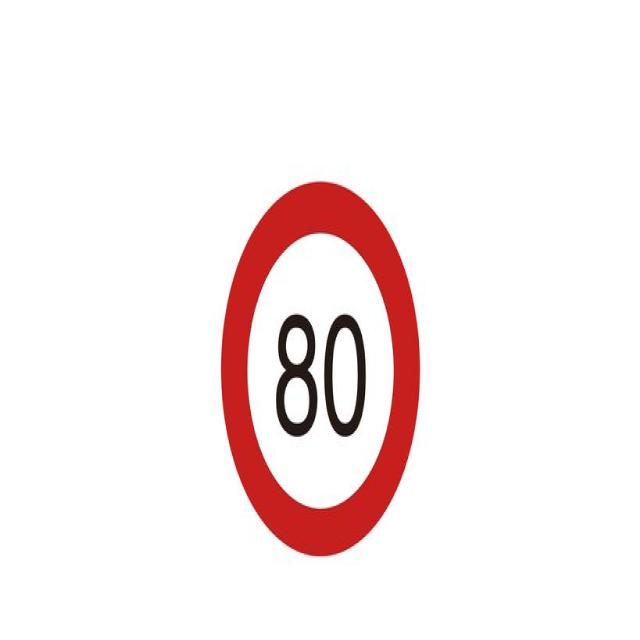speed limit 80: (220, 184, 420, 556)
